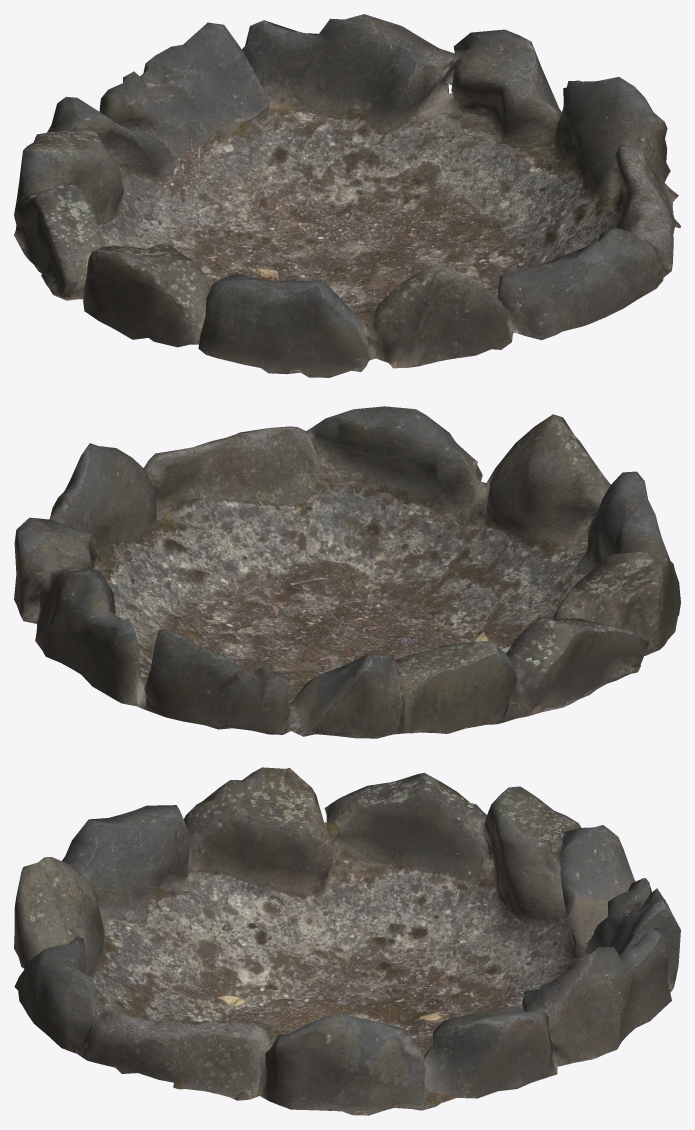
File: fogon.glb
The picture shows the model from 3 angles, top to bottom: view 1: azimuth 30°, elevation 25°; view 2: azimuth 150°, elevation 25°; view 3: azimuth 270°, elevation 25°; orthographic projection.
Visible parts, largest first — view 1: stone_fire_pit; view 2: stone_fire_pit; view 3: stone_fire_pit.
Boxes of the visible parts, box(x1,y1,x2,y2) form: stone_fire_pit: box(14, 14, 680, 377); stone_fire_pit: box(14, 406, 680, 738); stone_fire_pit: box(14, 767, 680, 1115).
Bounding box in the file's own units: 1.45 × 0.3883 × 1.43.
Materials: 1 (1 with a texture image).
